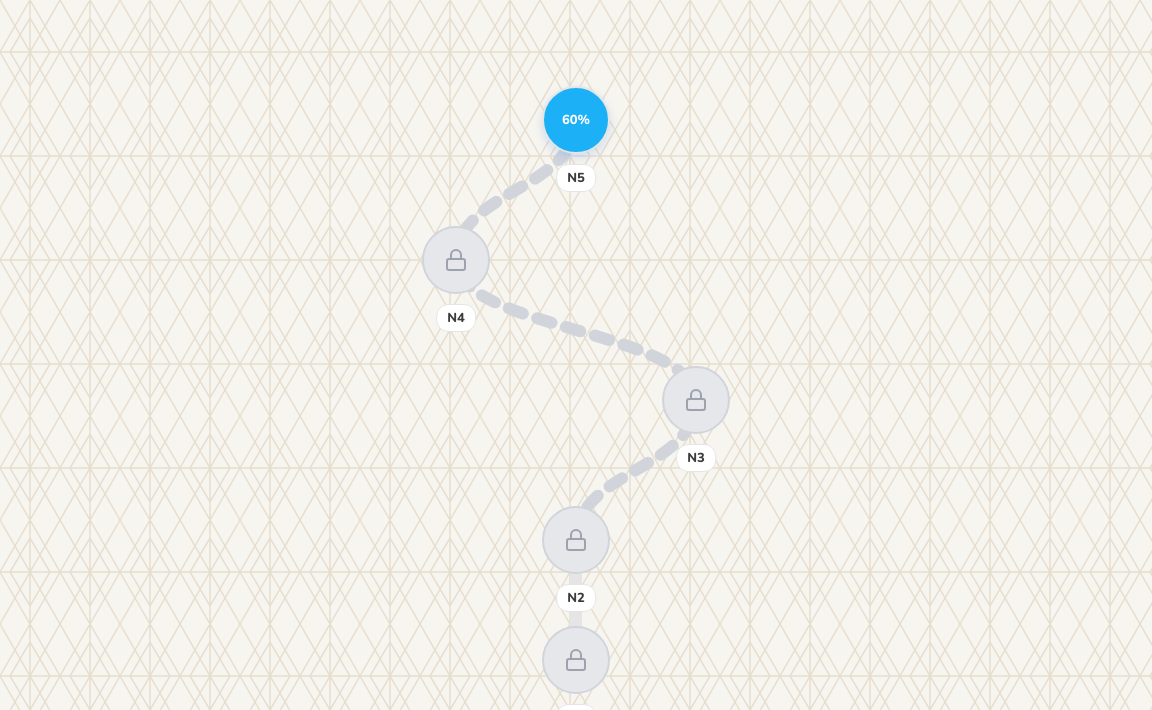
Test: LearningTrack Component (Macro Ladder N5→N1) › попап показывает полосы покрытия при клике на активный узел
The width and height of the screenshot is (1152, 710).
Click the button with test id "level-node-N5".
click(576, 120)  # box [542, 86, 610, 154]
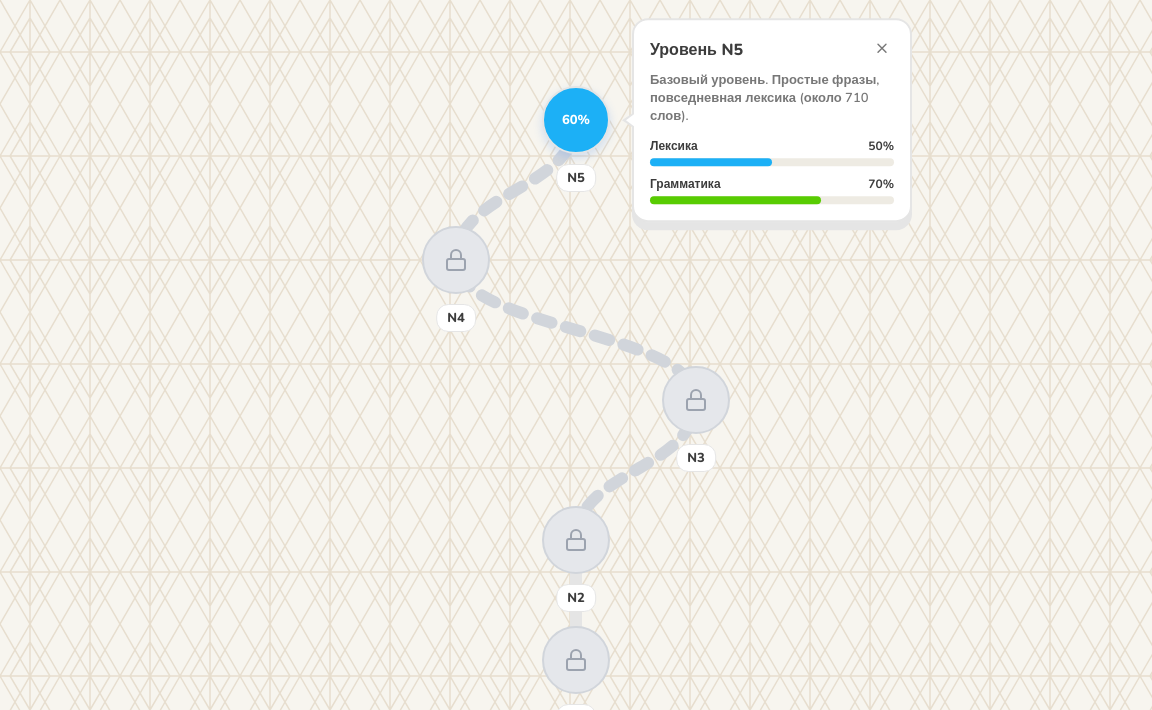
Check: the heading "Уровень N5" is shown, box [650, 39, 743, 61]
Check: the text "Лексика" is shown, box [650, 138, 698, 154]
Check: the text "Грамматика" is shown, box [650, 176, 721, 192]
